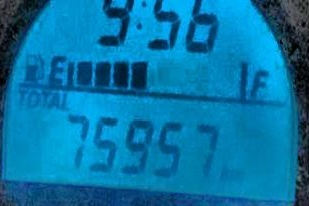5: (88, 112, 117, 173), (150, 0, 182, 51), (158, 117, 183, 179)
6: (186, 0, 222, 56)
7: (194, 121, 218, 176), (65, 112, 88, 167)
9: (120, 115, 152, 175), (98, 1, 128, 47)
X: (249, 61, 270, 98), (45, 50, 67, 83), (136, 0, 149, 30), (60, 90, 72, 111), (230, 164, 243, 183), (219, 162, 230, 183), (40, 86, 50, 109), (27, 88, 38, 108), (16, 85, 26, 106), (51, 88, 60, 111)
